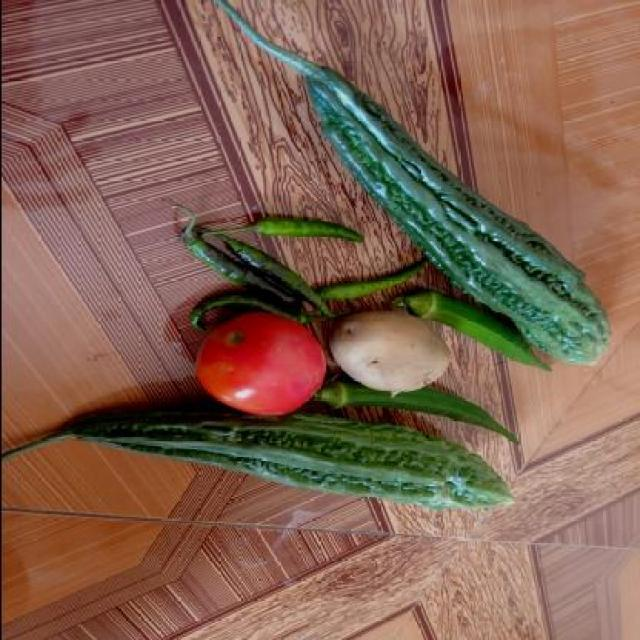Bitter melon: (66, 406, 503, 506)
Green Chili: (172, 223, 320, 311), (238, 218, 358, 240)
Lady finger: (318, 378, 500, 429)
Potato: (330, 311, 452, 394)
Tomato: (194, 314, 328, 412)
